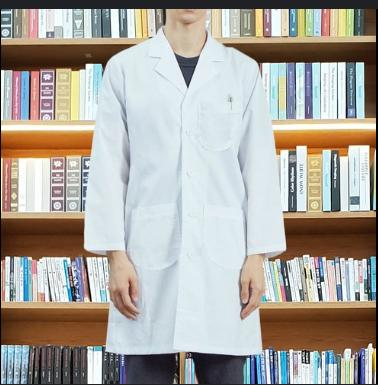lab_coat: (81, 26, 288, 359)
